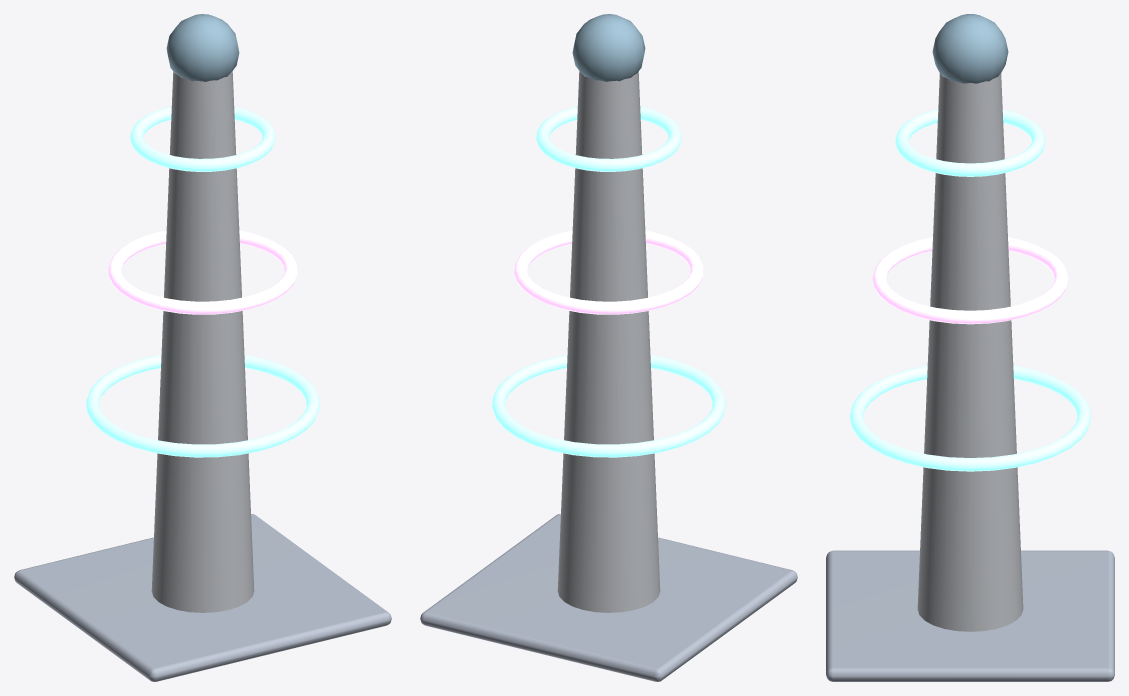
The picture shows the model from 3 angles, left to right: view 1: azimuth 30°, elevation 25°; view 2: azimuth 150°, elevation 25°; view 3: azimuth 270°, elevation 25°; orthographic projection. The views are drawn at different scales.
Parts seen in each view (by area): view 1: Cube; view 2: Cube; view 3: Cube.
Boxes of the visible parts, left/top/right/bottom form: Cube: left=14, top=14, right=391, bottom=681; Cube: left=420, top=14, right=797, bottom=681; Cube: left=826, top=14, right=1114, bottom=681.
Size of the model in its own units: 0.76 by 1.76 by 0.76.
